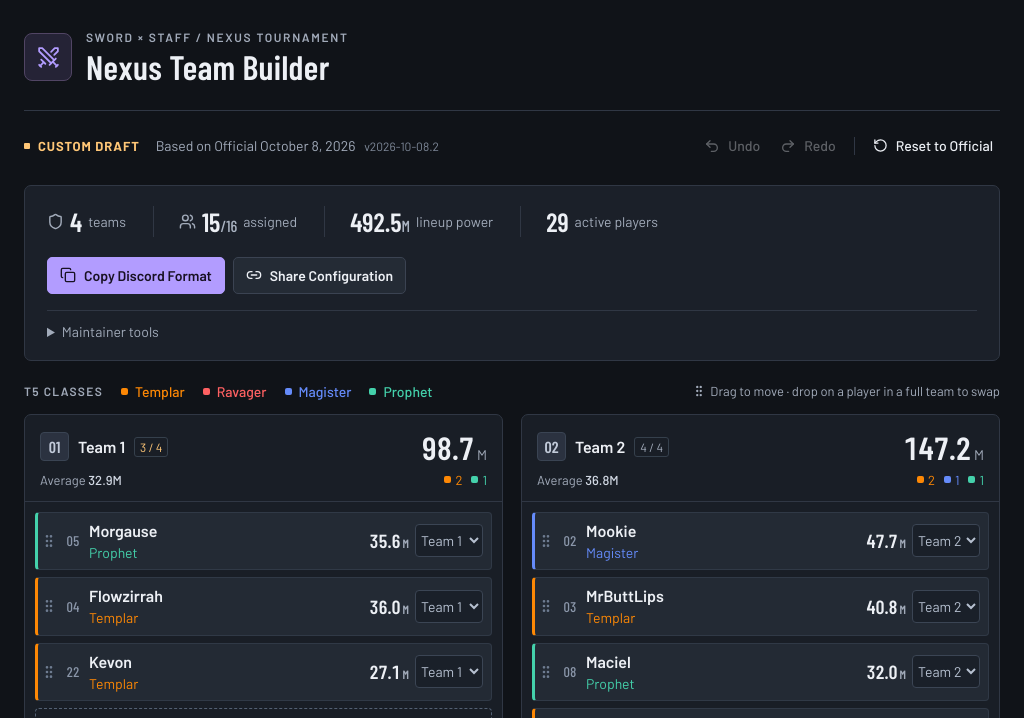
discard saved draft resets and deletes stored state
This screenshot has width=1024, height=718.
Click the heading "Maintainer tools" at (103, 331), box [47,323,159,340]
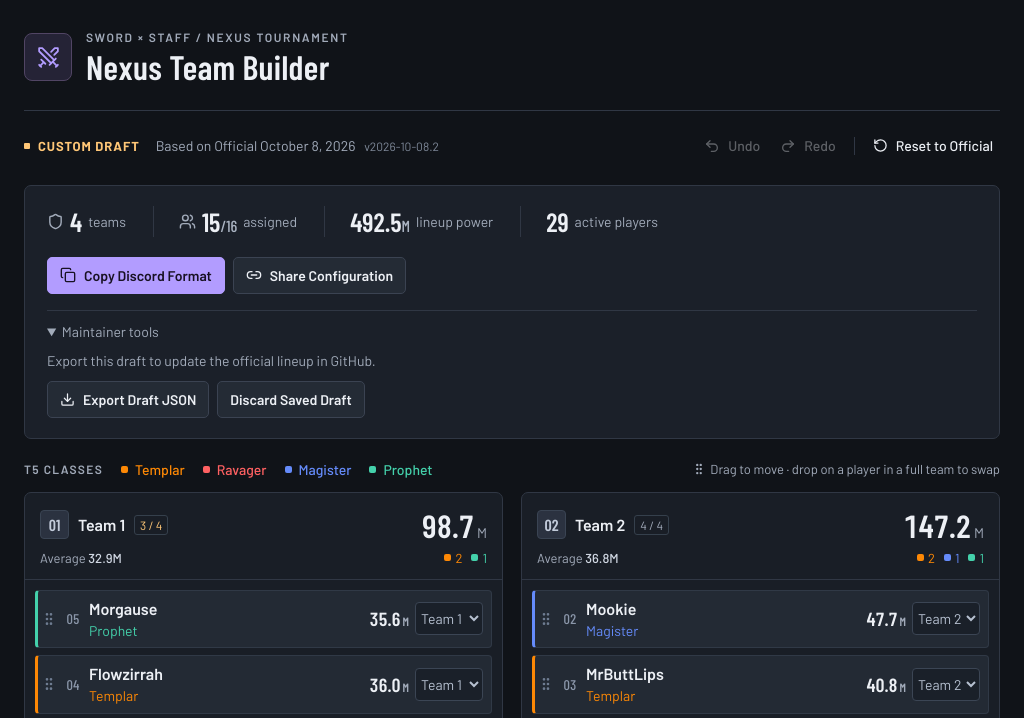
Click the button "Discard Saved Draft" at (291, 399), box [217,381,365,418]
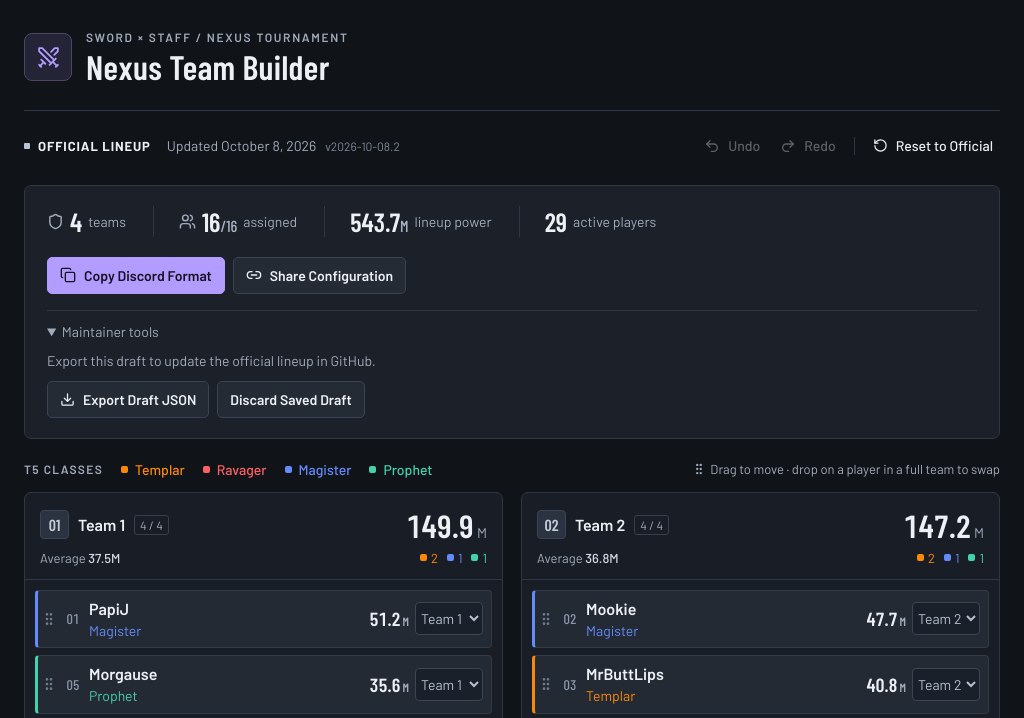
Expected: the text "OFFICIAL LINEUP" is shown, [24,138,151,154]
